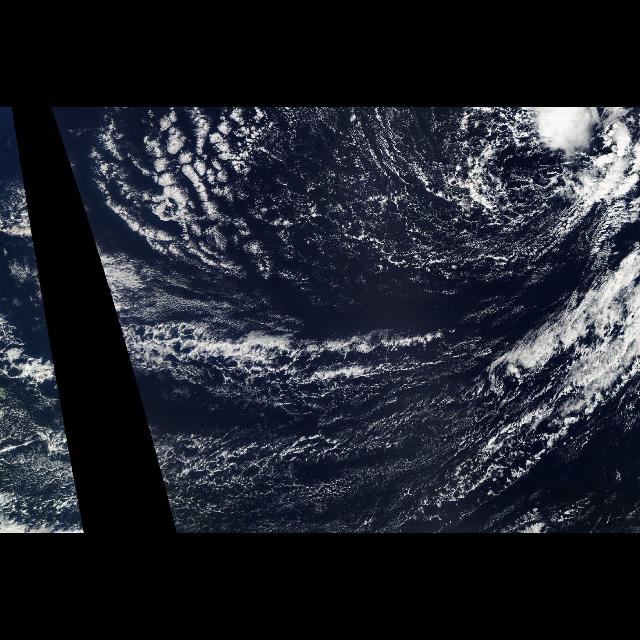Gravel: (142, 391, 508, 514)
Sugar: (264, 113, 501, 531)
